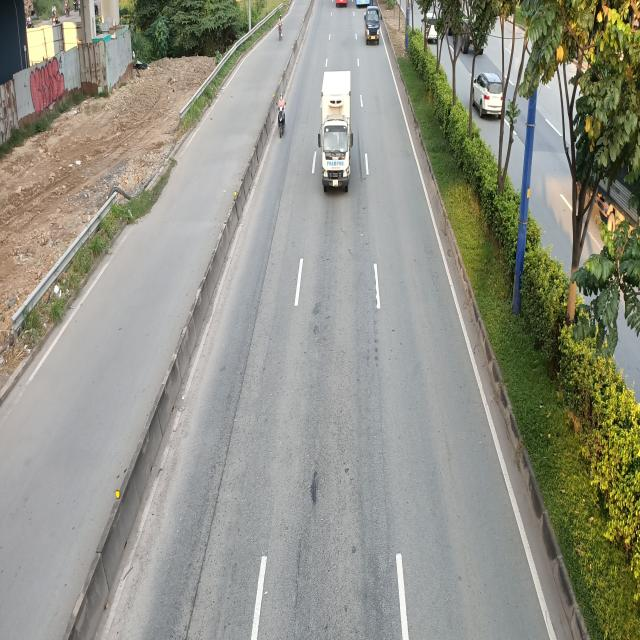truck: (319, 69, 355, 191), (363, 3, 381, 45)
